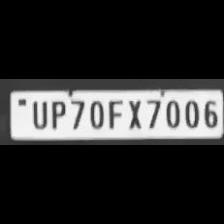0: (86, 98, 106, 130), (161, 97, 181, 129), (183, 97, 201, 128)
6: (200, 97, 218, 129)
7: (66, 96, 86, 130), (142, 96, 160, 130)
F: (104, 97, 124, 129)
P: (46, 98, 68, 130)
U: (27, 98, 49, 130)
X: (123, 98, 143, 130)
